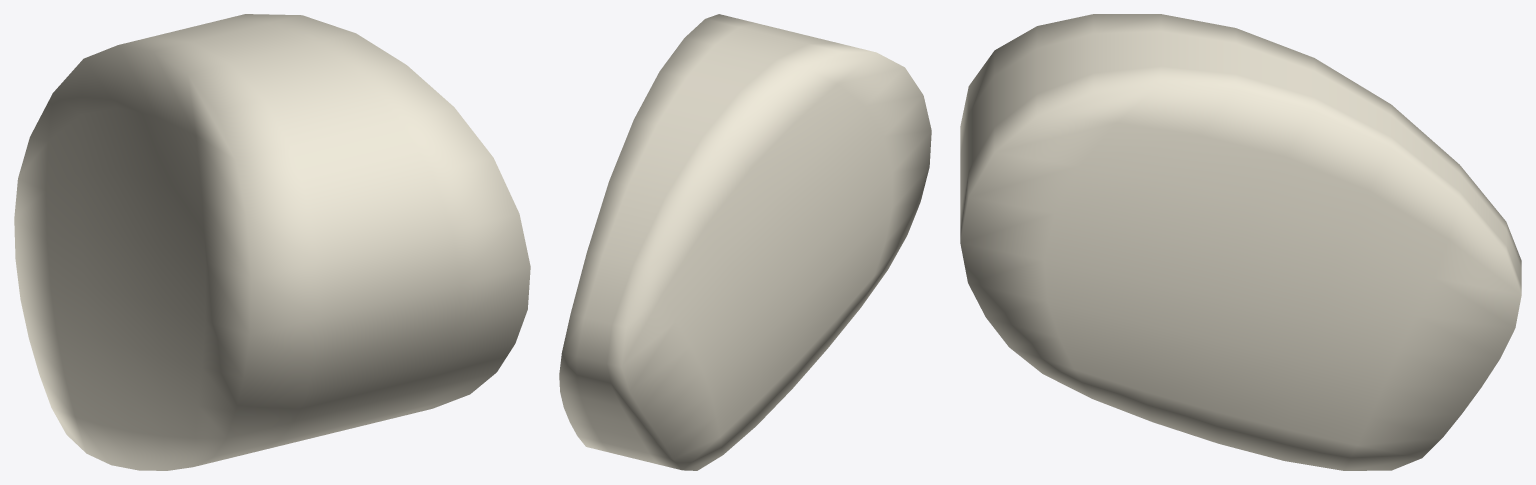
3 views of the same model, side by side, from view 1: azimuth 30°, elevation 25°; view 2: azimuth 150°, elevation 25°; view 3: azimuth 270°, elevation 25° (orthographic). The views are drawn at different scales.
Visible parts, largest first — view 1: ZA_41340f2cfa2a1f52; view 2: ZA_41340f2cfa2a1f52; view 3: ZA_41340f2cfa2a1f52.
Part boxes in pixels (bbox=[...]): ZA_41340f2cfa2a1f52: bbox=[14, 14, 530, 470]; ZA_41340f2cfa2a1f52: bbox=[559, 14, 931, 470]; ZA_41340f2cfa2a1f52: bbox=[960, 14, 1521, 470].
Size of the model in its own units: 0.00925 by 0.0144 by 0.0187.
